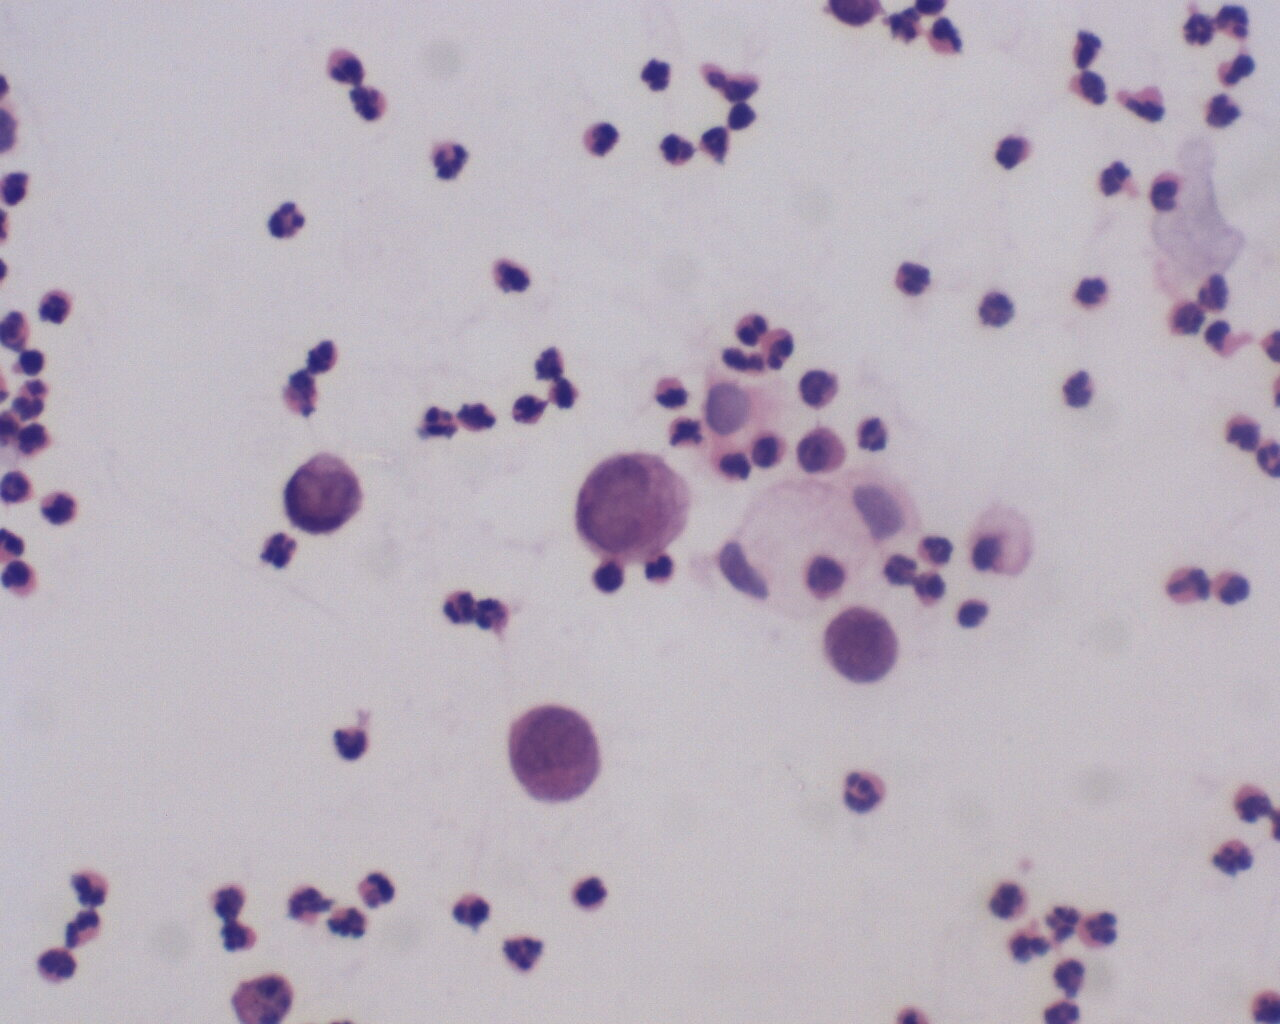ab: (578, 448, 704, 557), (505, 699, 607, 814), (280, 450, 367, 536), (825, 602, 906, 690)
histo: (717, 481, 874, 619)
neutro: (839, 766, 894, 820), (498, 934, 554, 982), (1076, 906, 1127, 955), (424, 137, 476, 185), (344, 78, 394, 127), (653, 127, 706, 173), (1145, 168, 1193, 218), (329, 716, 377, 763), (266, 197, 311, 247), (985, 876, 1031, 923), (1163, 565, 1213, 608), (976, 288, 1024, 332), (257, 526, 298, 577), (891, 257, 939, 300), (33, 940, 76, 988), (325, 899, 366, 948), (757, 328, 801, 371), (71, 867, 114, 910), (37, 486, 80, 528), (453, 890, 494, 935), (417, 400, 461, 440), (581, 118, 620, 161), (857, 415, 895, 455), (1181, 13, 1220, 51), (921, 529, 959, 567)
